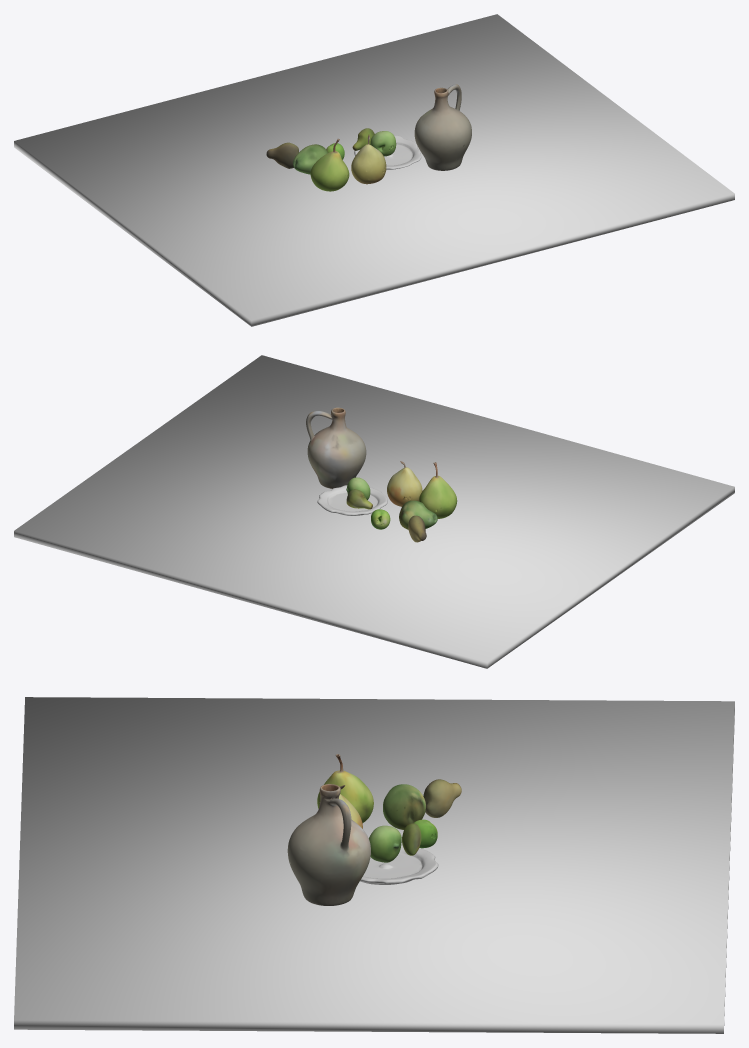
File: rest3d.glb
3 views of the same model, one above another, from view 1: azimuth 30°, elevation 25°; view 2: azimuth 150°, elevation 25°; view 3: azimuth 270°, elevation 25° (orthographic). The views are drawn at different scales.
Parts seen in each view (by area): view 1: ground, World; view 2: ground, World; view 3: ground, World.
Part boxes in pixels (x1=…): ground: x1=14, y1=14, x2=734, y2=326; World: x1=266, y1=84, x2=471, y2=191; ground: x1=14, y1=355, x2=734, y2=668; World: x1=306, y1=407, x2=457, y2=542; ground: x1=14, y1=697, x2=734, y2=1033; World: x1=287, y1=754, x2=461, y2=905.
Size of the model in its own units: 3.91 by 0.6782 by 3.44.
